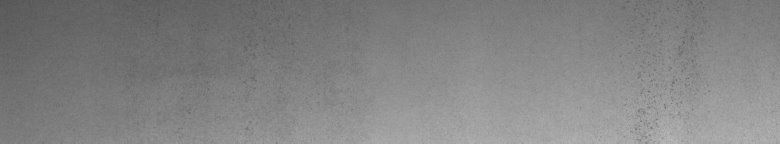ib: (630, 30, 694, 128)
